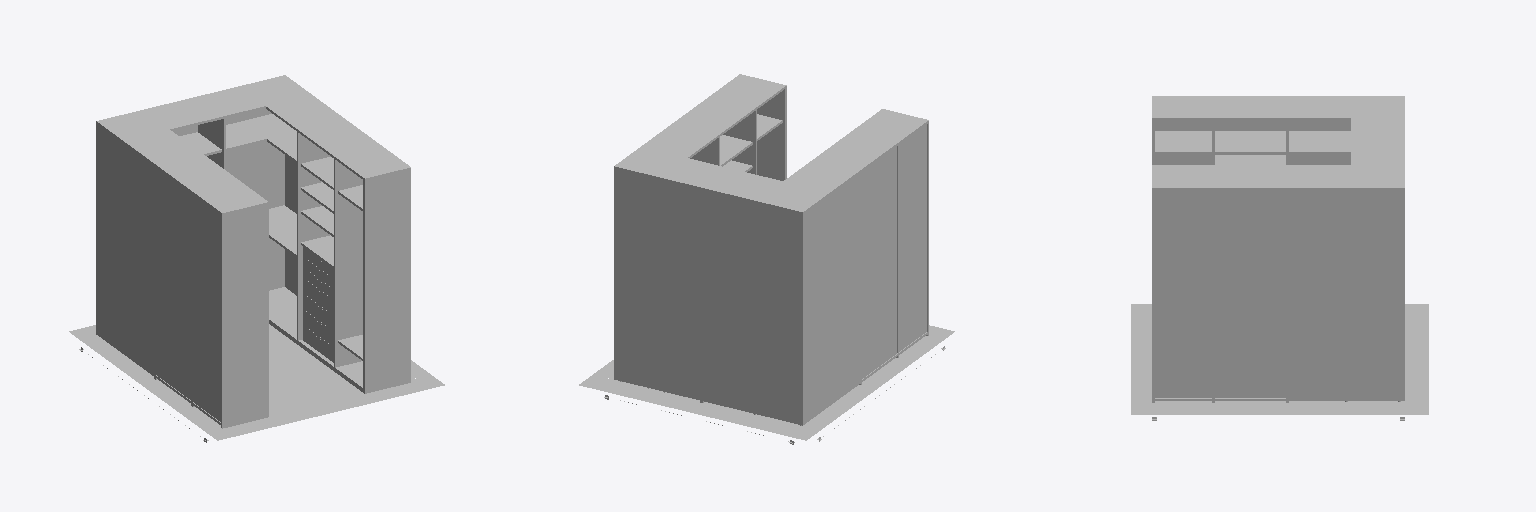
3 views of the same model, side by side, from view 1: azimuth 30°, elevation 25°; view 2: azimuth 150°, elevation 25°; view 3: azimuth 270°, elevation 25° (orthographic).
Visible parts, largest first — view 1: Mesh112 B3_PC_DXF1 Model, Mesh38 B3_PC_DXF1 Model, Mesh239 B3_PC_DXF1 Model, Mesh34 B3_PC_DXF1 Model, Mesh54 B3_PC_DXF1 Model, Mesh225 B3_PC_DXF1 Model, Mesh39 B3_PC_DXF1 Model, Mesh246 B3_PC_DXF1 Model, Mesh147 B3_PC_DXF1 Model, Mesh171 B3_PC_DXF1 Model, Mesh140 B3_PC_DXF1 Model, Mesh250 B3_PC_DXF1 Model (+9 smaller); view 2: Mesh112 B3_PC_DXF1 Model, Mesh147 B3_PC_DXF1 Model, Mesh38 B3_PC_DXF1 Model, Mesh54 B3_PC_DXF1 Model, Mesh39 B3_PC_DXF1 Model, Mesh140 B3_PC_DXF1 Model, Mesh225 B3_PC_DXF1 Model, Mesh250 B3_PC_DXF1 Model, Mesh171 B3_PC_DXF1 Model, Mesh239 B3_PC_DXF1 Model, Mesh247 B3_PC_DXF1 Model, Mesh246 B3_PC_DXF1 Model (+1 smaller); view 3: Mesh147 B3_PC_DXF1 Model, Mesh175 B3_PC_DXF1 Model, Mesh229 B3_PC_DXF1 Model, Mesh38 B3_PC_DXF1 Model, Mesh140 B3_PC_DXF1 Model, Mesh171 B3_PC_DXF1 Model, Mesh246 B3_PC_DXF1 Model, Mesh248 B3_PC_DXF1 Model, Mesh225 B3_PC_DXF1 Model, Mesh249 B3_PC_DXF1 Model, Mesh247 B3_PC_DXF1 Model, Mesh55 B3_PC_DXF1 Model (+7 smaller).
Part boxes in pixels (x1,y1,x2,y2): Mesh112 B3_PC_DXF1 Model: (96,124,197,373); Mesh38 B3_PC_DXF1 Model: (96,86,363,406); Mesh239 B3_PC_DXF1 Model: (363,166,410,393); Mesh34 B3_PC_DXF1 Model: (221,201,268,428); Mesh54 B3_PC_DXF1 Model: (156,168,190,399); Mesh225 B3_PC_DXF1 Model: (334,145,408,367); Mesh39 B3_PC_DXF1 Model: (193,195,220,421); Mesh246 B3_PC_DXF1 Model: (93,324,420,429); Mesh147 B3_PC_DXF1 Model: (226,109,296,295); Mesh171 B3_PC_DXF1 Model: (297,118,379,340); Mesh140 B3_PC_DXF1 Model: (239,75,342,128); Mesh250 B3_PC_DXF1 Model: (70,332,223,440); Mesh112 B3_PC_DXF1 Model: (703,173,860,422); Mesh147 B3_PC_DXF1 Model: (614,169,699,397); Mesh38 B3_PC_DXF1 Model: (660,87,927,402); Mesh54 B3_PC_DXF1 Model: (862,146,896,378); Mesh39 B3_PC_DXF1 Model: (899,124,926,351); Mesh140 B3_PC_DXF1 Model: (614,124,717,179); Mesh225 B3_PC_DXF1 Model: (709,75,784,174); Mesh250 B3_PC_DXF1 Model: (800,332,953,440); Mesh171 B3_PC_DXF1 Model: (672,97,754,165); Mesh239 B3_PC_DXF1 Model: (739,74,786,180); Mesh247 B3_PC_DXF1 Model: (579,383,805,440); Mesh246 B3_PC_DXF1 Model: (603,334,930,429); Mesh147 B3_PC_DXF1 Model: (1289,190,1404,398); Mesh175 B3_PC_DXF1 Model: (1215,190,1285,397); Mesh229 B3_PC_DXF1 Model: (1155,190,1211,397); Mesh38 B3_PC_DXF1 Model: (1155,96,1404,164); Mesh140 B3_PC_DXF1 Model: (1289,165,1404,189); Mesh171 B3_PC_DXF1 Model: (1215,165,1288,402); Mesh246 B3_PC_DXF1 Model: (1149,311,1410,406); Mesh248 B3_PC_DXF1 Model: (1132,407,1428,414); Mesh225 B3_PC_DXF1 Model: (1155,165,1214,402); Mesh249 B3_PC_DXF1 Model: (1131,304,1148,414); Mesh247 B3_PC_DXF1 Model: (1411,304,1428,413); Mesh55 B3_PC_DXF1 Model: (1215,131,1285,153).
Size of the model in its own units: 115613 by 108504 by 129952.